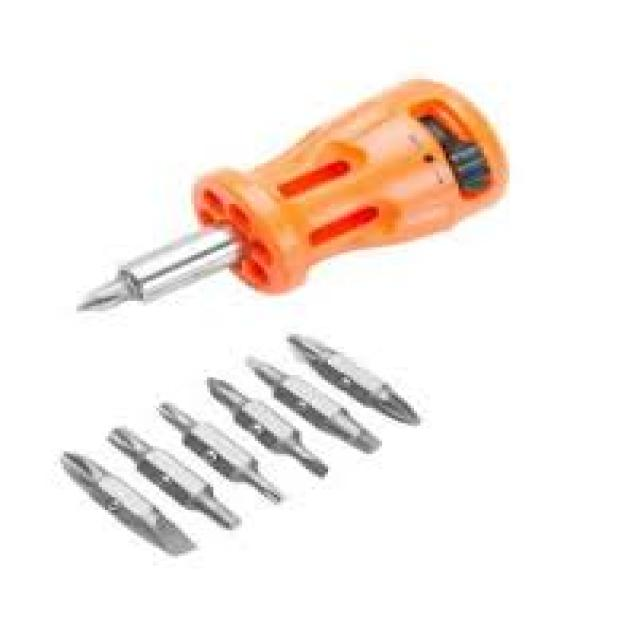screw driver: (65, 76, 462, 334)
